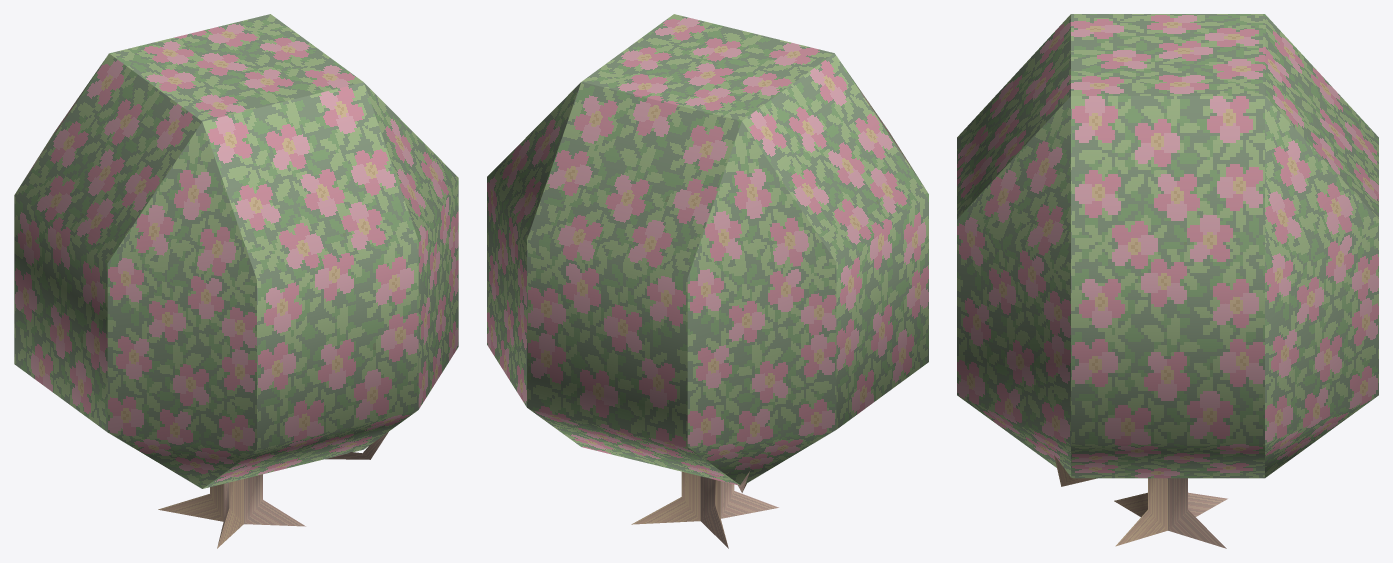
File: 00e9_Garden_Plant_M.glb
The picture shows the model from 3 angles, left to right: view 1: azimuth 30°, elevation 25°; view 2: azimuth 150°, elevation 25°; view 3: azimuth 270°, elevation 25°; orthographic projection. The views are drawn at different scales.
Parts seen in each view (by area): view 1: part_0; view 2: part_0; view 3: part_0.
Part boxes in pixels (x1,y1,x2,y2): part_0: (14,14,458,548); part_0: (487,14,928,548); part_0: (957,14,1378,548).
Size of the model in its own units: 1 by 1.23 by 1.
1 material, 1 textured.
